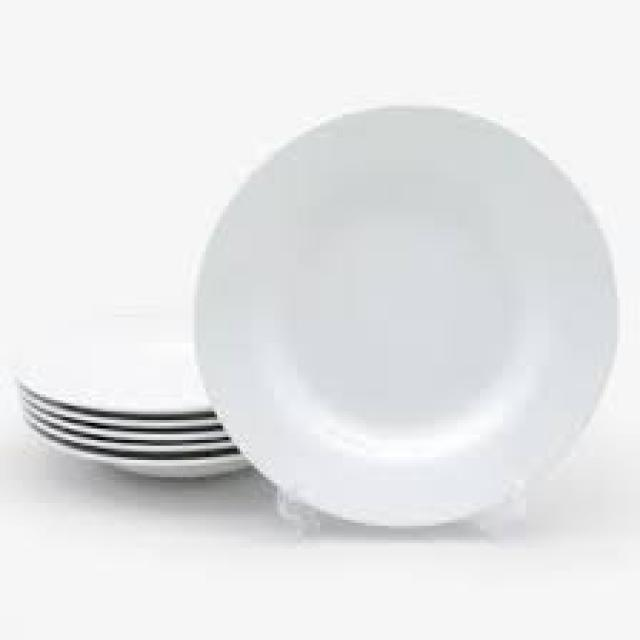Plate: (181, 93, 627, 537)
